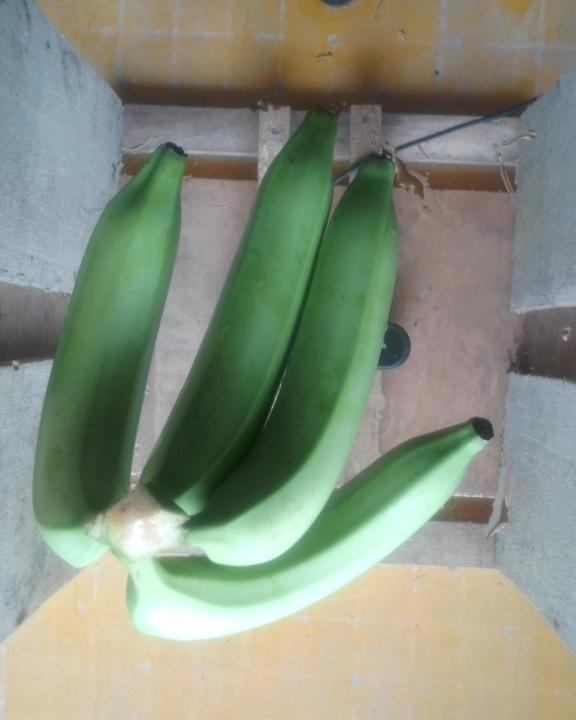SPOT: (22, 99, 520, 651)
